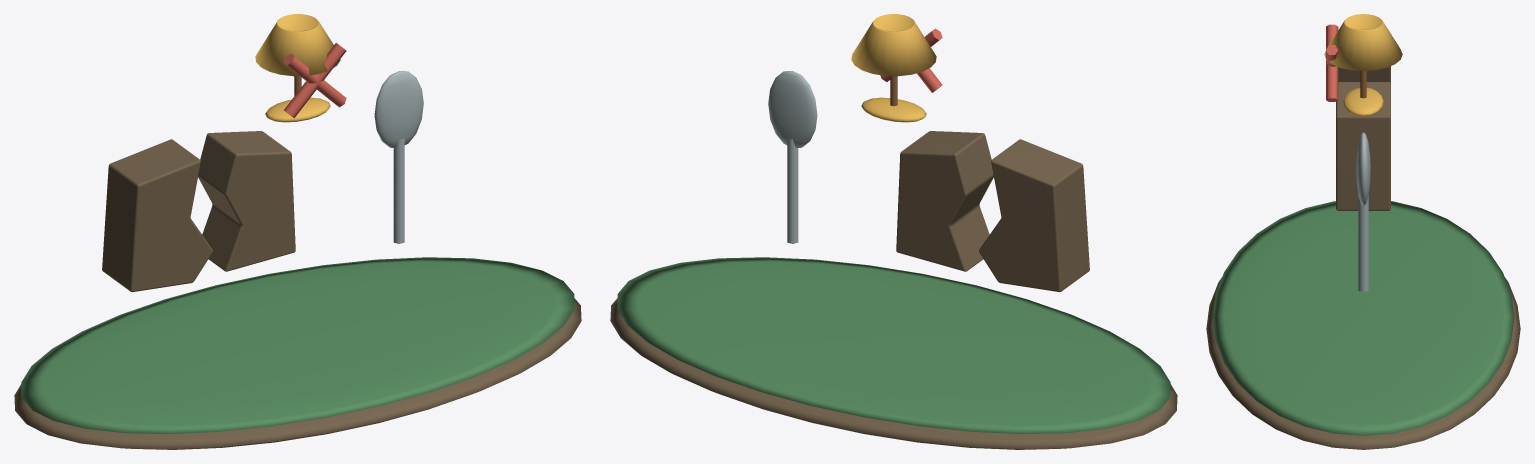
File: complete-second-bone-ending.glb
3 views of the same model, side by side, from view 1: azimuth 30°, elevation 25°; view 2: azimuth 150°, elevation 25°; view 3: azimuth 270°, elevation 25° (orthographic). The views are drawn at different scales.
Parts seen in each view (by area): view 1: complete-second-bone-ending_surface_01, complete-second-bone-ending_surface_00, complete-second-bone-ending_surface_03, complete-second-bone-ending_surface_02, complete-second-bone-ending_surface_05; view 2: complete-second-bone-ending_surface_01, complete-second-bone-ending_surface_00, complete-second-bone-ending_surface_03, complete-second-bone-ending_surface_02, complete-second-bone-ending_surface_05; view 3: complete-second-bone-ending_surface_01, complete-second-bone-ending_surface_00, complete-second-bone-ending_surface_03, complete-second-bone-ending_surface_02, complete-second-bone-ending_surface_05.
Part boxes in pixels (<box>): complete-second-bone-ending_surface_01: <box>21,257,574,434</box>; complete-second-bone-ending_surface_00: <box>14,131,581,449</box>; complete-second-bone-ending_surface_03: <box>255,14,340,122</box>; complete-second-bone-ending_surface_02: <box>374,71,423,243</box>; complete-second-bone-ending_surface_05: <box>283,43,346,118</box>; complete-second-bone-ending_surface_01: <box>617,257,1170,434</box>; complete-second-bone-ending_surface_00: <box>610,131,1177,449</box>; complete-second-bone-ending_surface_03: <box>851,14,936,122</box>; complete-second-bone-ending_surface_02: <box>768,71,817,243</box>; complete-second-bone-ending_surface_05: <box>880,28,942,92</box>; complete-second-bone-ending_surface_01: <box>1212,201,1514,435</box>; complete-second-bone-ending_surface_00: <box>1206,66,1520,449</box>; complete-second-bone-ending_surface_03: <box>1324,14,1402,116</box>; complete-second-bone-ending_surface_02: <box>1356,132,1370,291</box>; complete-second-bone-ending_surface_05: <box>1326,24,1338,101</box>.
Bounding box in the file's own units: 4.56 × 2.82 × 2.5.
